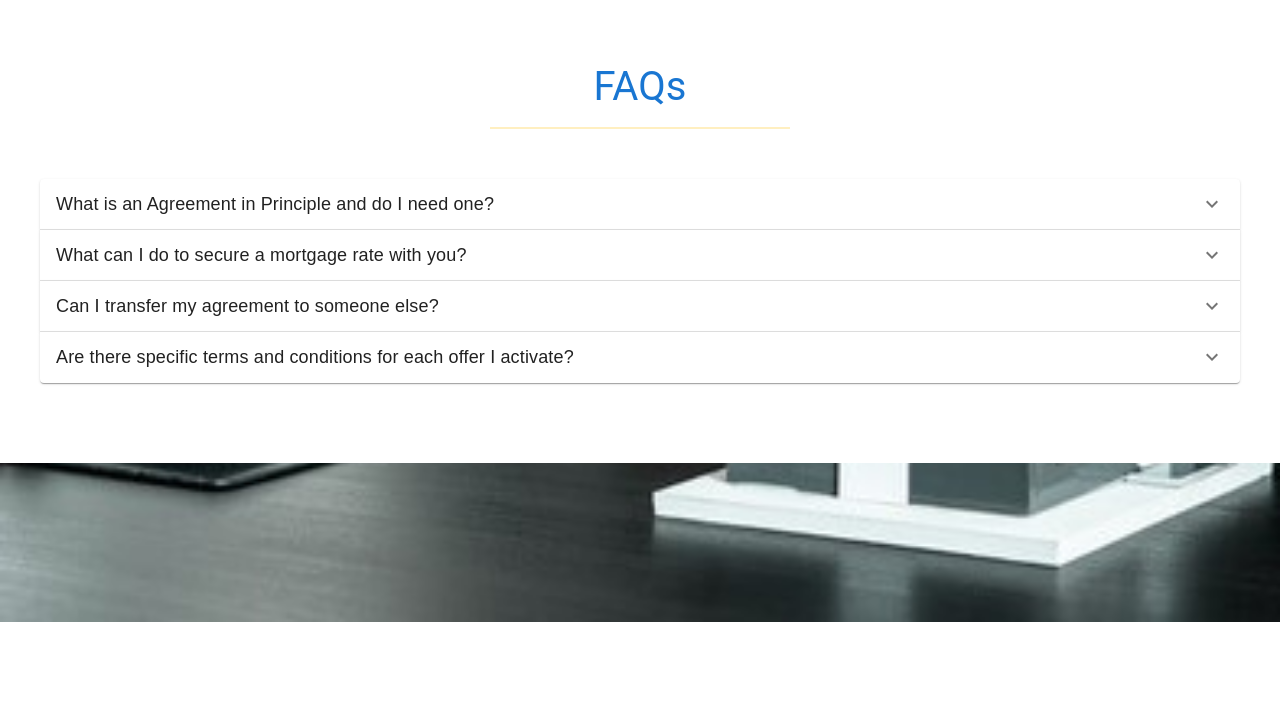
Test: FAQ Component › renders faqs in an accordion
The image size is (1280, 720).
Expected: the heading "FAQs" is shown, [490,63,790,129]
Click the button "What can I do to secure a mortgage rate with you?": click(261, 255) [56,243,1224,267]
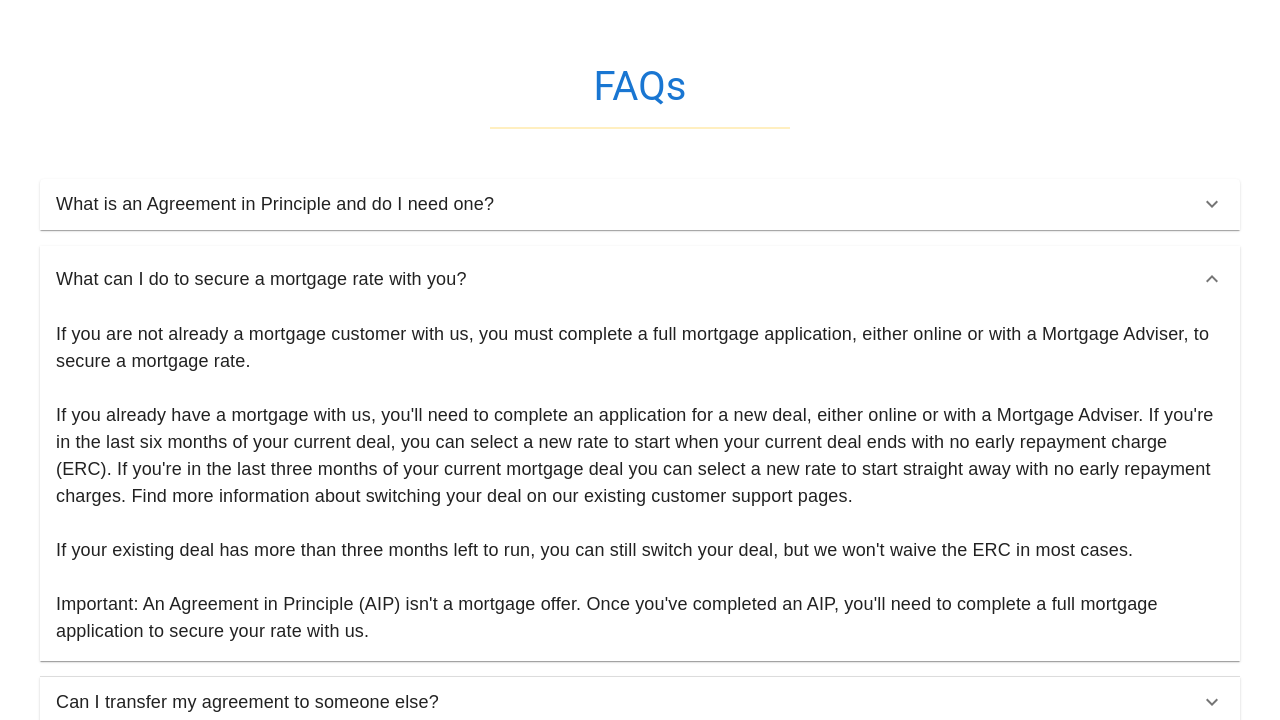
Now the text "If you are not already a mortgage customer with us, you must complete a full mortgage application, either online or with" is shown, box [56,324,1209,371]
